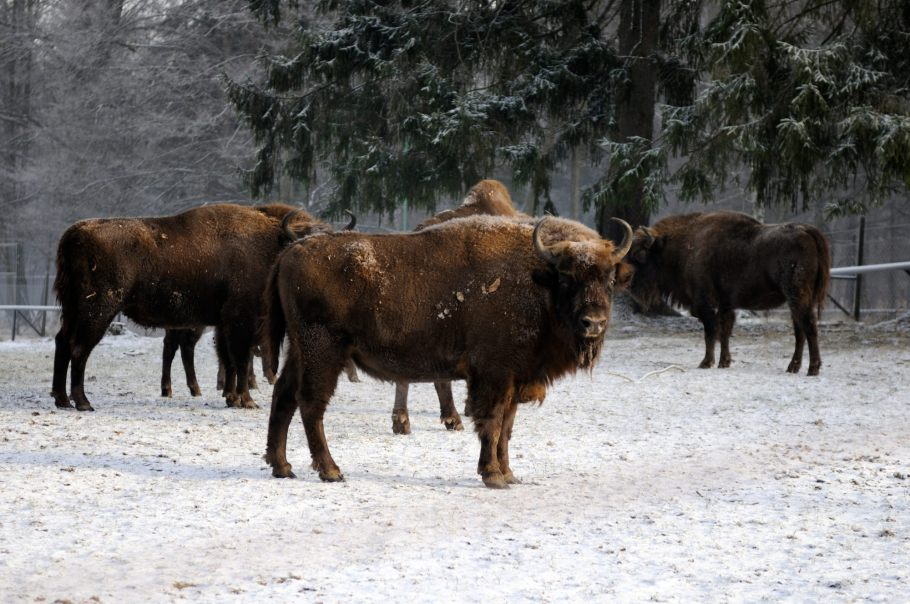zubr: (239, 186, 647, 508)
